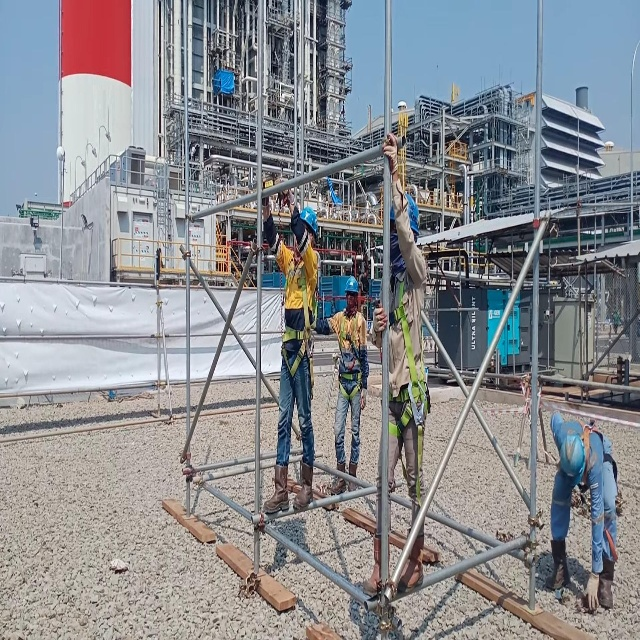Arnes_seguridad: (387, 267, 432, 505), (577, 413, 621, 567), (281, 257, 320, 397), (337, 306, 363, 406)
